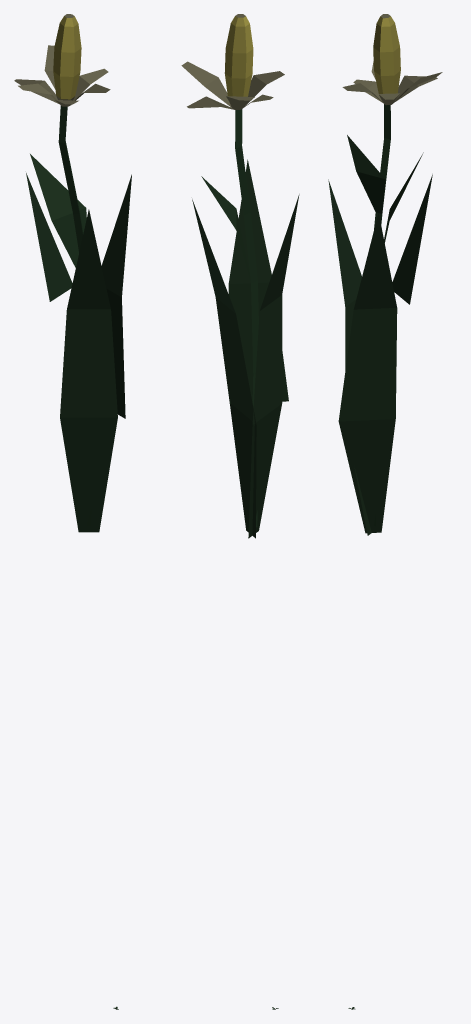
The model's file is corn1.obj.
3 views of the same model, side by side, from view 1: azimuth 90°, elevation 25°; view 2: azimuth 150°, elevation 25°; view 3: azimuth 330°, elevation 25° (orthographic). The views are drawn at different scales.
Parts seen in each view (by area): view 1: Plane_Plane.003, Cylinder.001_Cylinder.002, Cylinder; view 2: Plane_Plane.003, Cylinder.001_Cylinder.002, Cylinder; view 3: Plane_Plane.003, Cylinder.001_Cylinder.002, Cylinder.
Boxes of the visible parts, <box> form: Plane_Plane.003: <box>26,173,131,532</box>; Cylinder.001_Cylinder.002: <box>14,14,110,106</box>; Cylinder: <box>30,105,91,525</box>; Plane_Plane.003: <box>192,159,299,538</box>; Cylinder.001_Cylinder.002: <box>181,14,284,109</box>; Cylinder: <box>201,109,258,527</box>; Plane_Plane.003: <box>328,174,432,535</box>; Cylinder.001_Cylinder.002: <box>342,14,442,105</box>; Cylinder: <box>347,104,423,526</box>.
Bounding box in the file's own units: 0.1259 × 1.18 × 0.1349.
